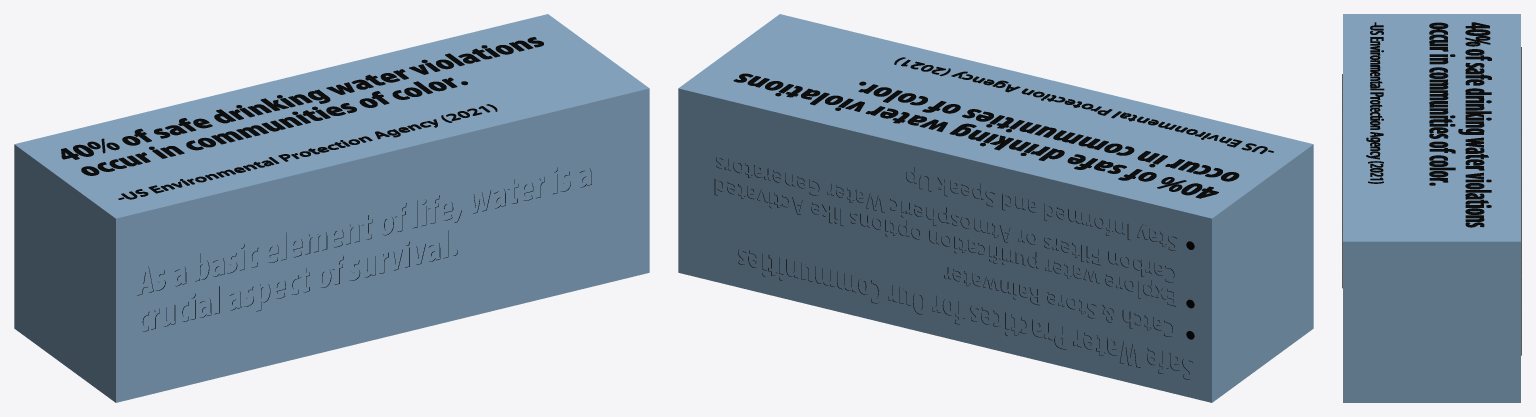
The model's file is BSN_Water_CopyCube.gltf.
The picture shows the model from 3 angles, left to right: view 1: azimuth 30°, elevation 25°; view 2: azimuth 150°, elevation 25°; view 3: azimuth 270°, elevation 25°; orthographic projection. The views are drawn at different scales.
Parts seen in each view (by area): view 1: watCopyCube.003; view 2: watCopyCube.003; view 3: watCopyCube.003.
Boxes of the visible parts, left/top/right/bottom form: watCopyCube.003: left=14, top=14, right=649, bottom=402; watCopyCube.003: left=678, top=14, right=1313, bottom=402; watCopyCube.003: left=1342, top=14, right=1521, bottom=402.
Size of the model in its own units: 16.67 by 5.55 by 5.55.
